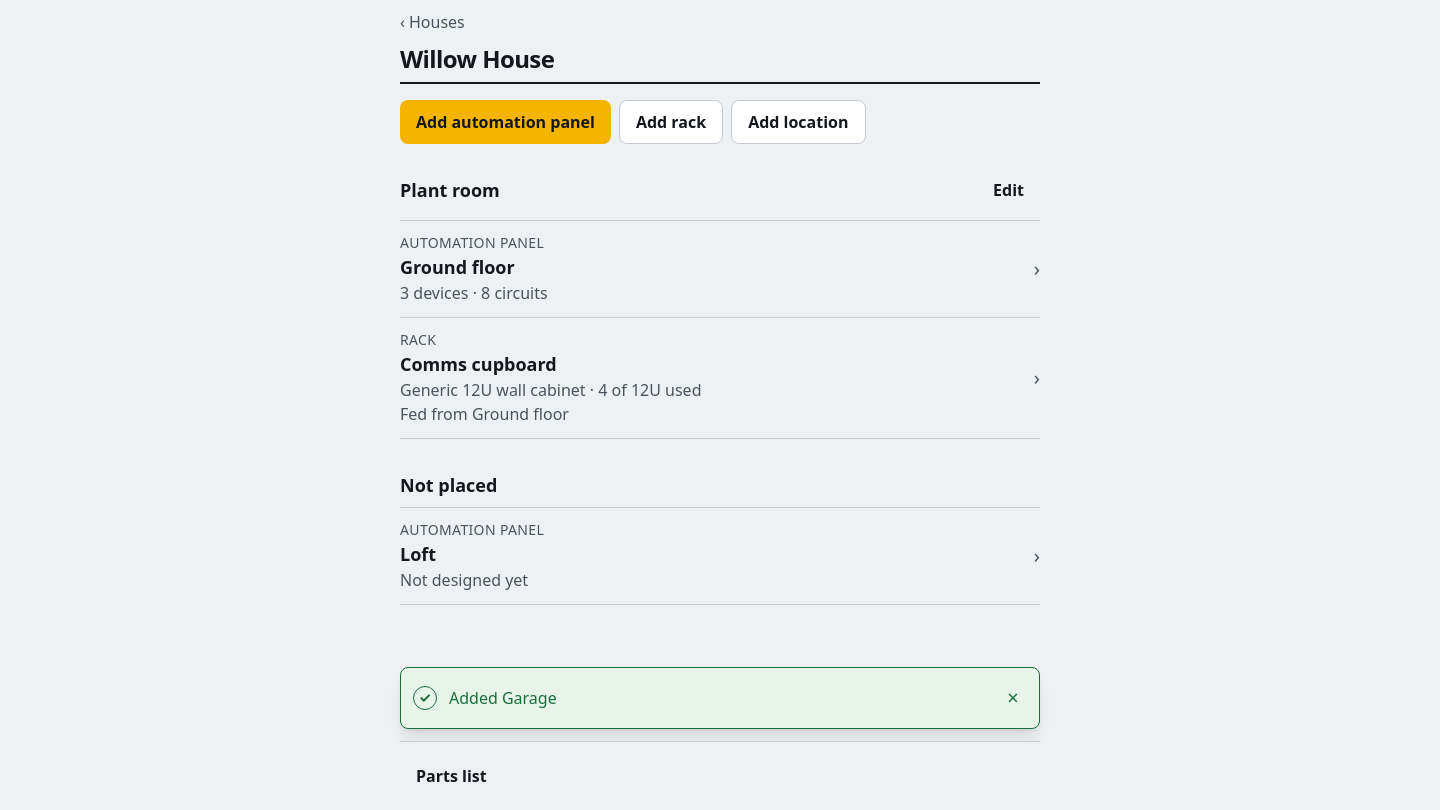
Test case: ProjectPage with locations › shows a name already used in the house under the field, and keeps the sheet open
Click the button "Add location" at (798, 122), box [731, 100, 866, 144]
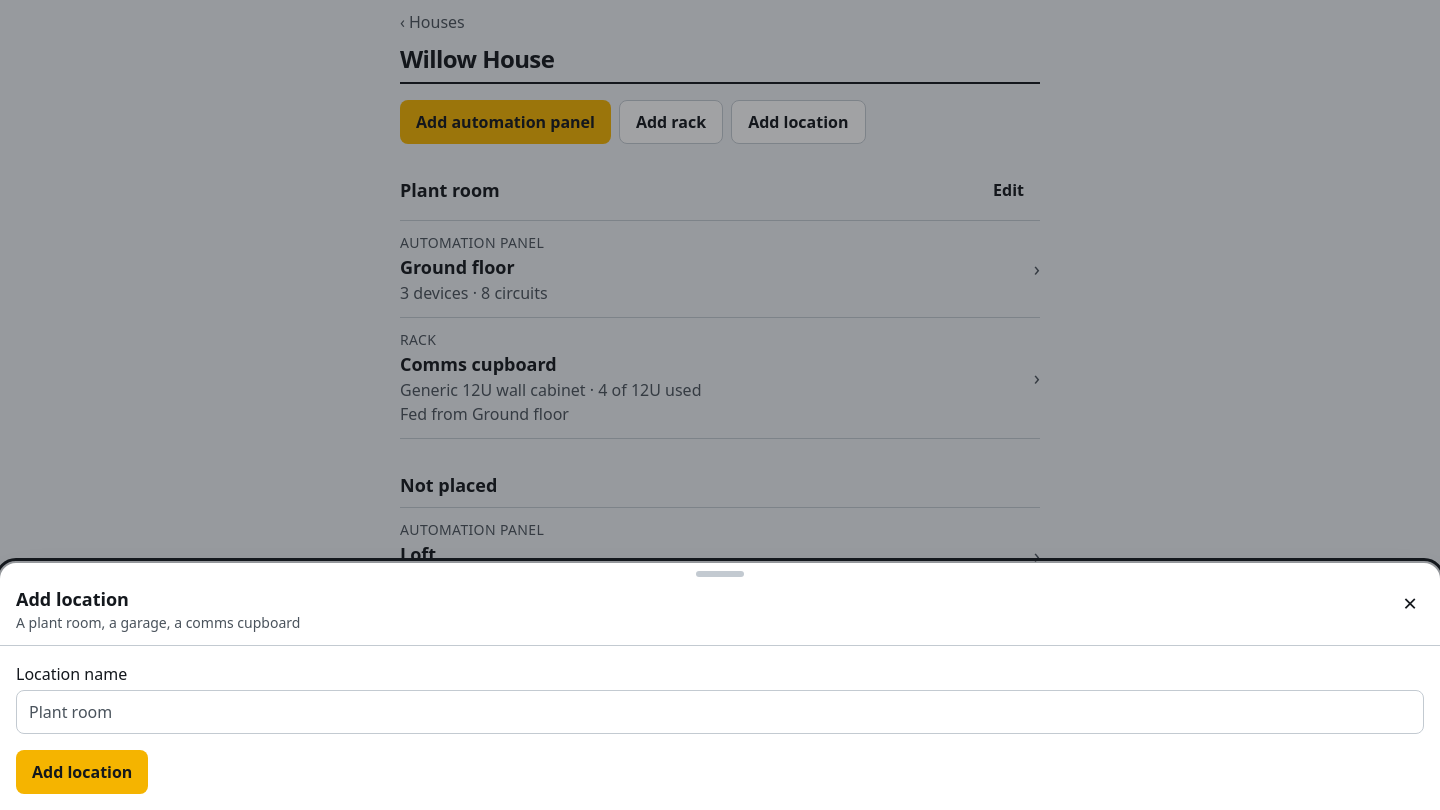
Type "plant room" into the field labelled "Location name" at (720, 712), box [16, 690, 1424, 734]
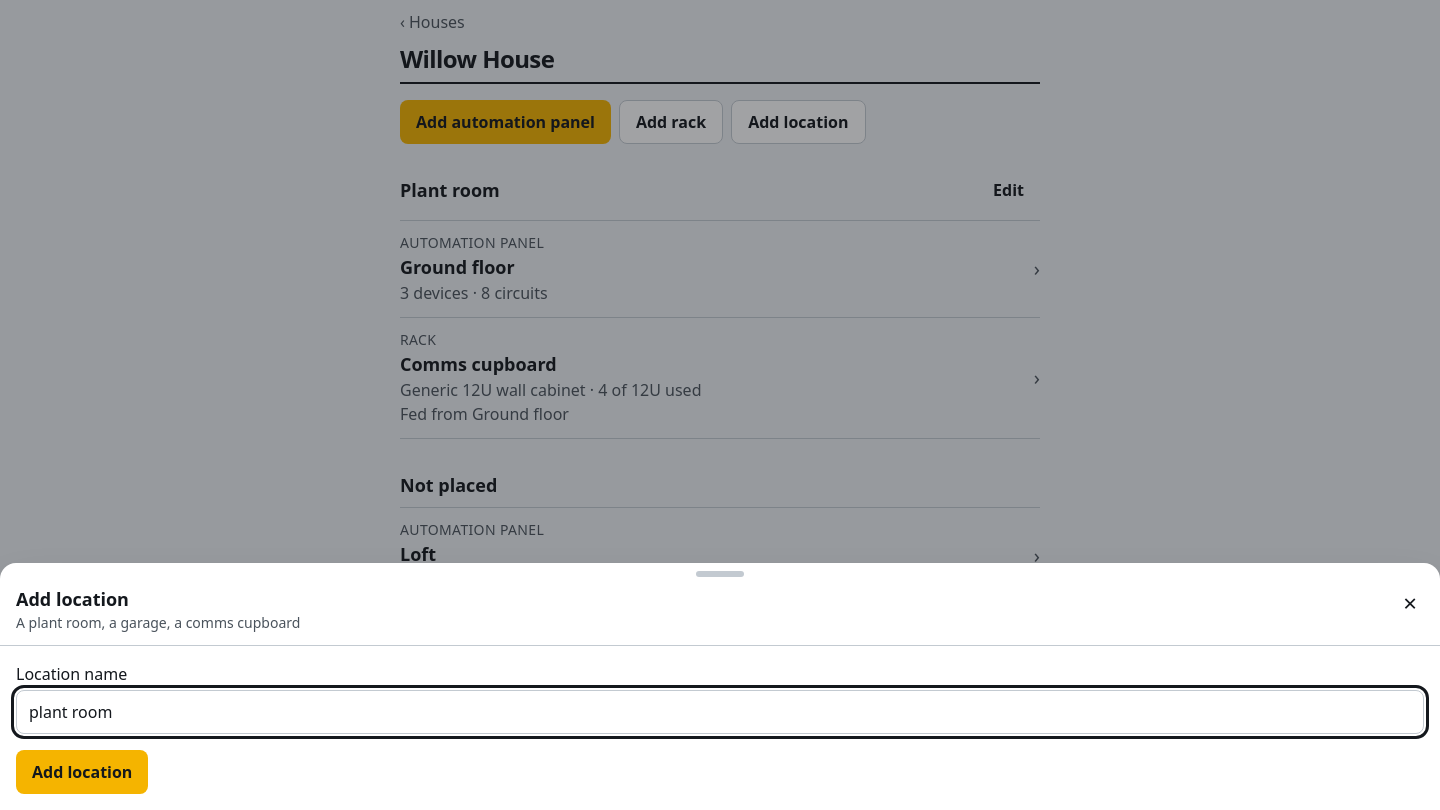
Click the button "Add location" at (82, 772), box [16, 750, 148, 794]
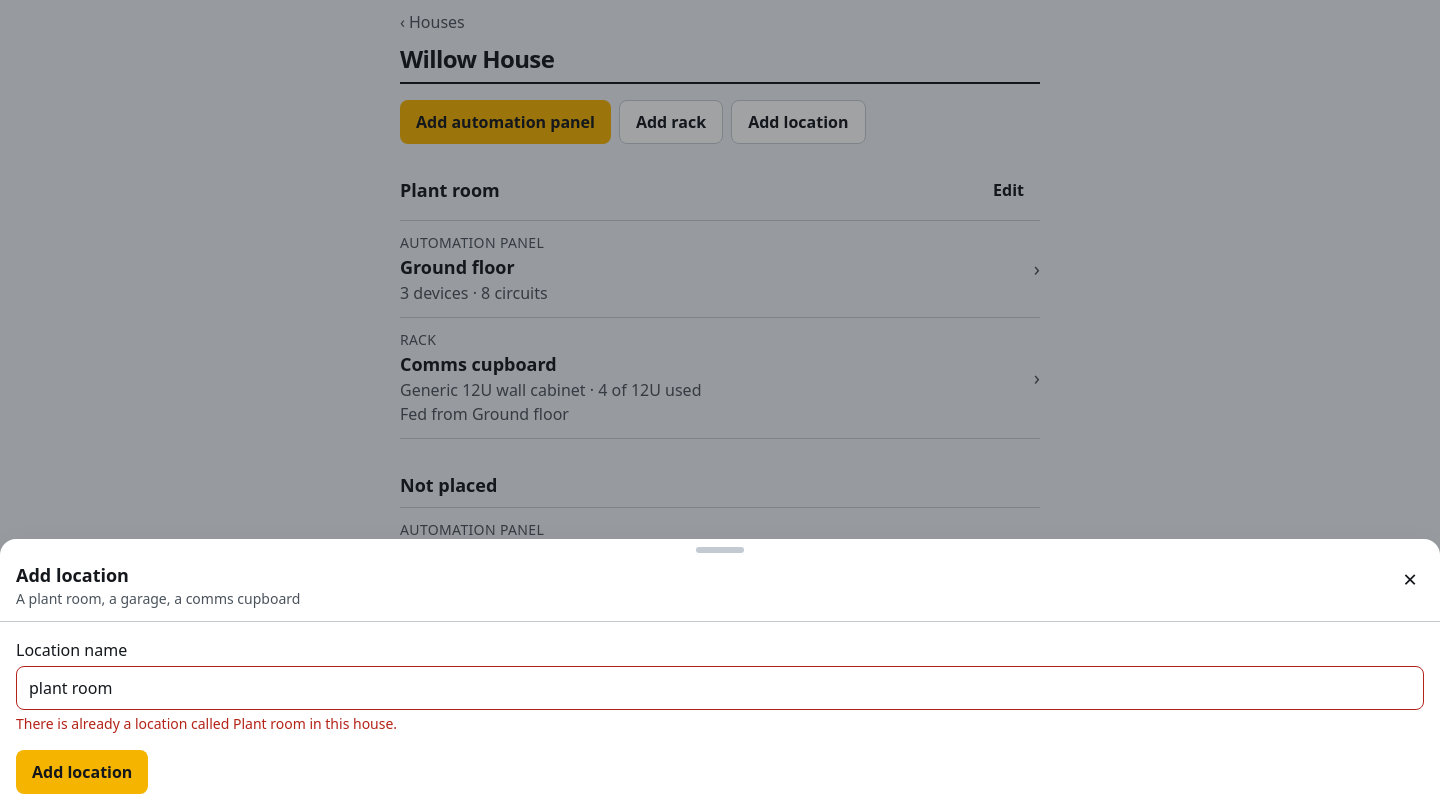
Check: the list item "There is already a location called Plant room in this house." is shown, box [16, 714, 397, 733]
